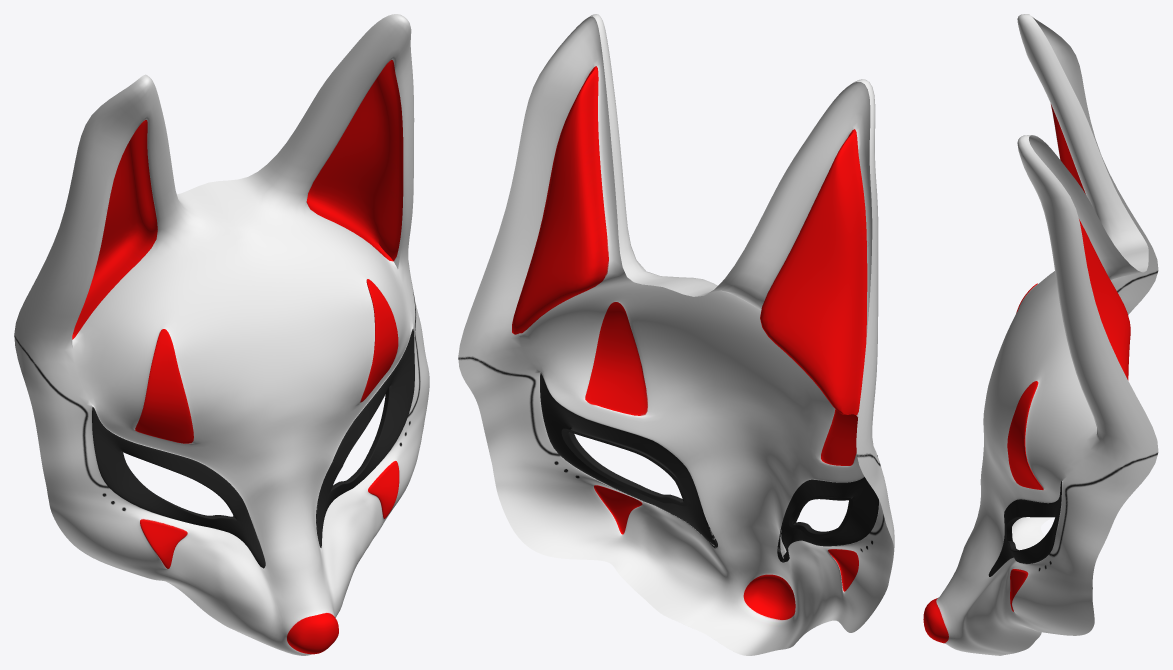
Rendered from mask2.glb.
3 renders of one model, left to right at view 1: azimuth 30°, elevation 25°; view 2: azimuth 150°, elevation 25°; view 3: azimuth 270°, elevation 25°, orthographic. The views are drawn at different scales.
Bounding box in the file's own units: 1.8 × 2.61 × 0.9636.
Materials: 1 (1 with a texture image).
